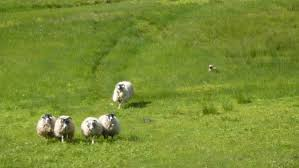sheep: (37, 111, 63, 144), (99, 113, 126, 144), (80, 117, 106, 146), (113, 80, 137, 110), (55, 115, 79, 143)
